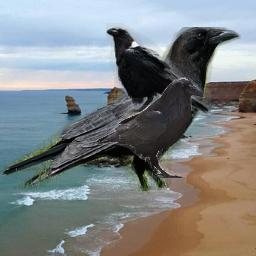Crow: (1, 27, 241, 195), (95, 77, 205, 178), (106, 23, 211, 118)
